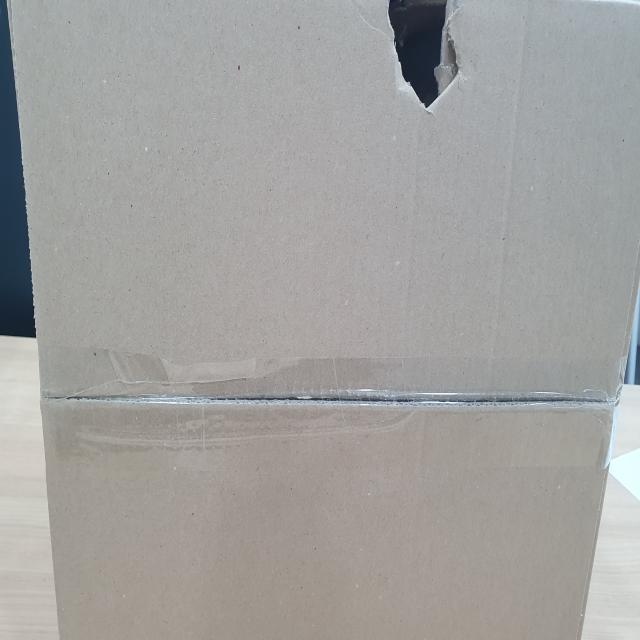hole: (382, 0, 464, 112)
